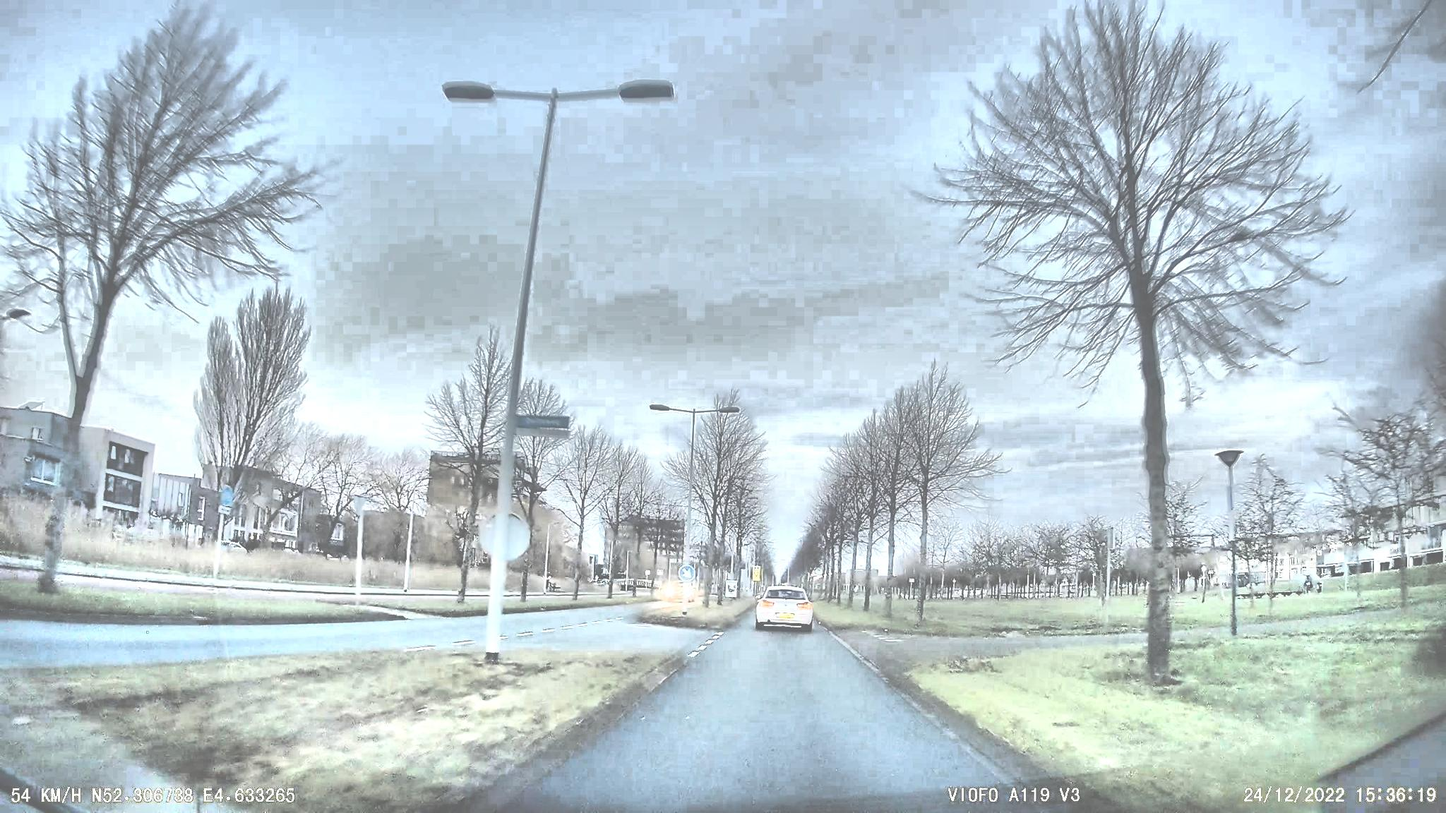Roads: (497, 617, 1081, 813), (0, 617, 486, 666)
